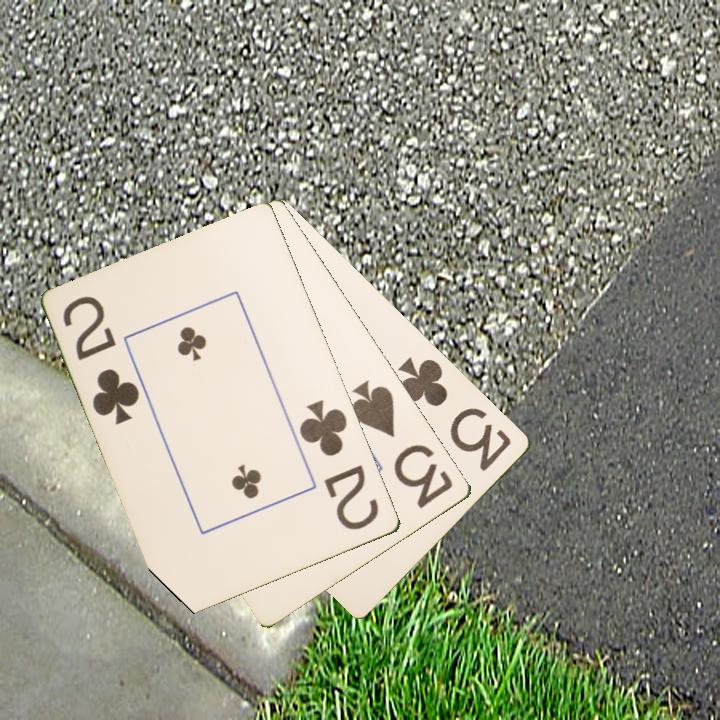2c: (296, 396, 383, 534), (59, 292, 143, 428)
3c: (395, 353, 515, 475)
3s: (348, 377, 457, 512)
